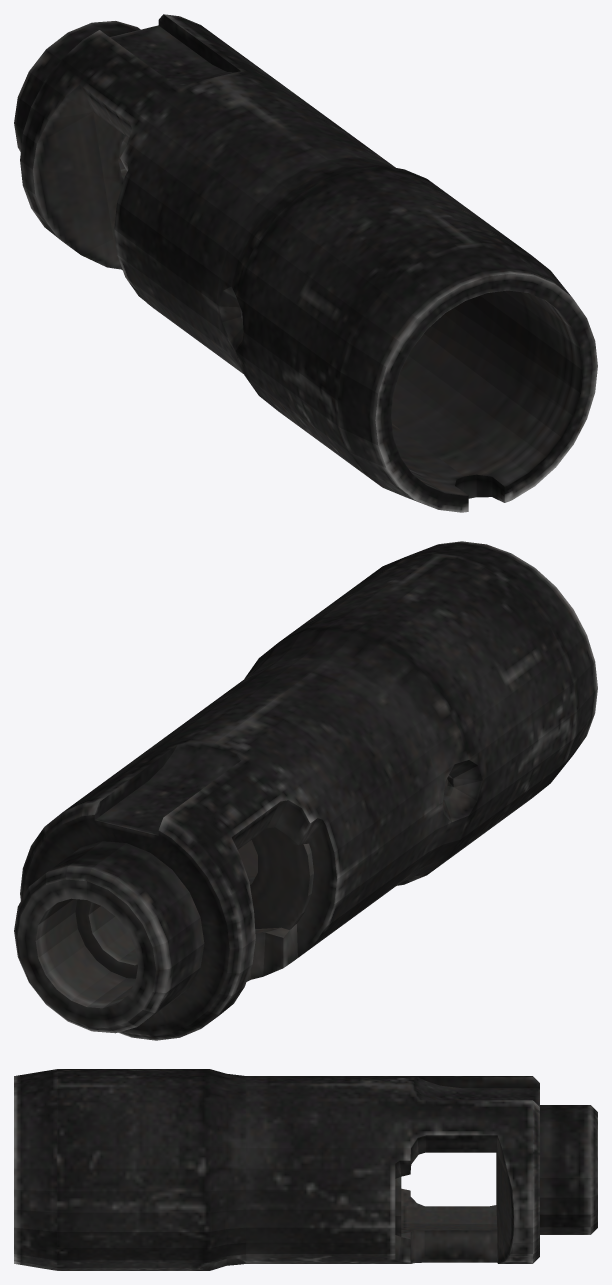
3 renders of one model, top to bottom at view 1: azimuth 30°, elevation 25°; view 2: azimuth 150°, elevation 25°; view 3: azimuth 270°, elevation 25°, orthographic. The views are drawn at different scales.
Parts seen in each view (by area): view 1: TW_5ac7655e5acfc40016339a19_PZ_Import; view 2: TW_5ac7655e5acfc40016339a19_PZ_Import; view 3: TW_5ac7655e5acfc40016339a19_PZ_Import.
Boxes of the visible parts, x1,y1,x2,y2 form: TW_5ac7655e5acfc40016339a19_PZ_Import: (14,14,597,512); TW_5ac7655e5acfc40016339a19_PZ_Import: (14,541,597,1040); TW_5ac7655e5acfc40016339a19_PZ_Import: (14,1069,597,1270).
Bounding box in the file's own units: 0.0162 × 0.0469 × 0.0162.
1 material, 1 textured.
